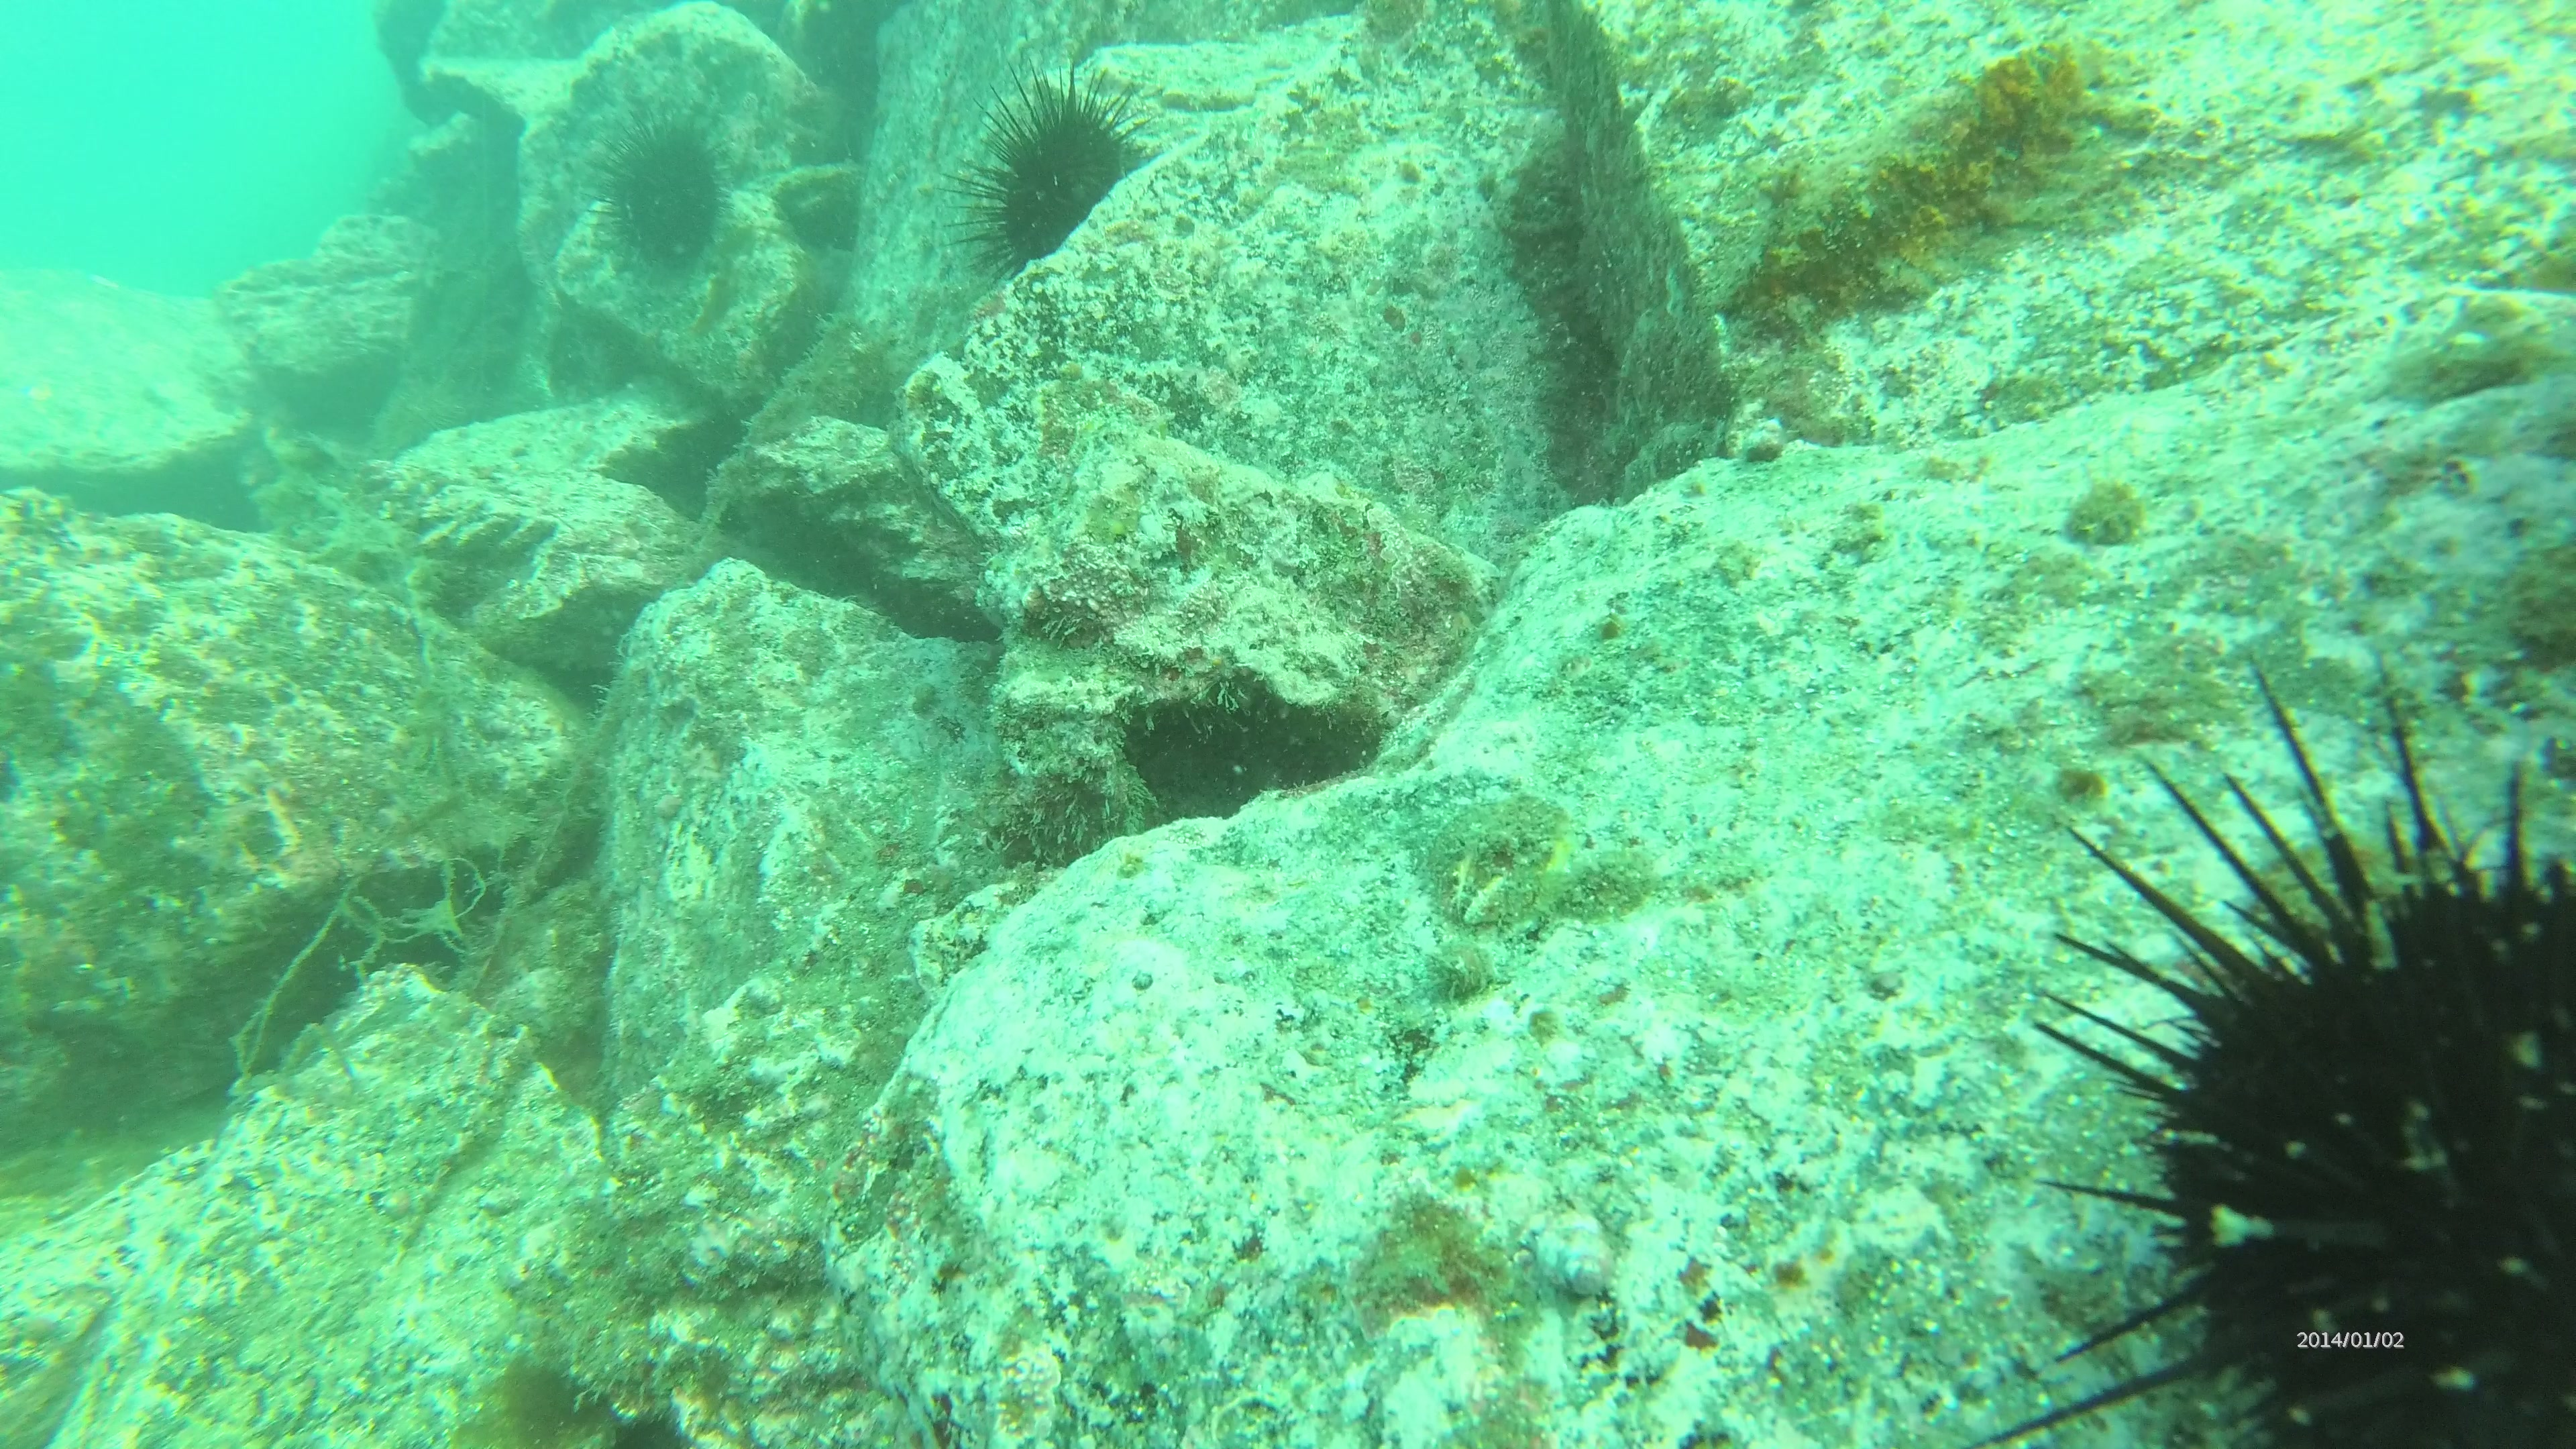echinus: (1974, 651, 2576, 1449), (947, 71, 1154, 274), (577, 110, 748, 306)
